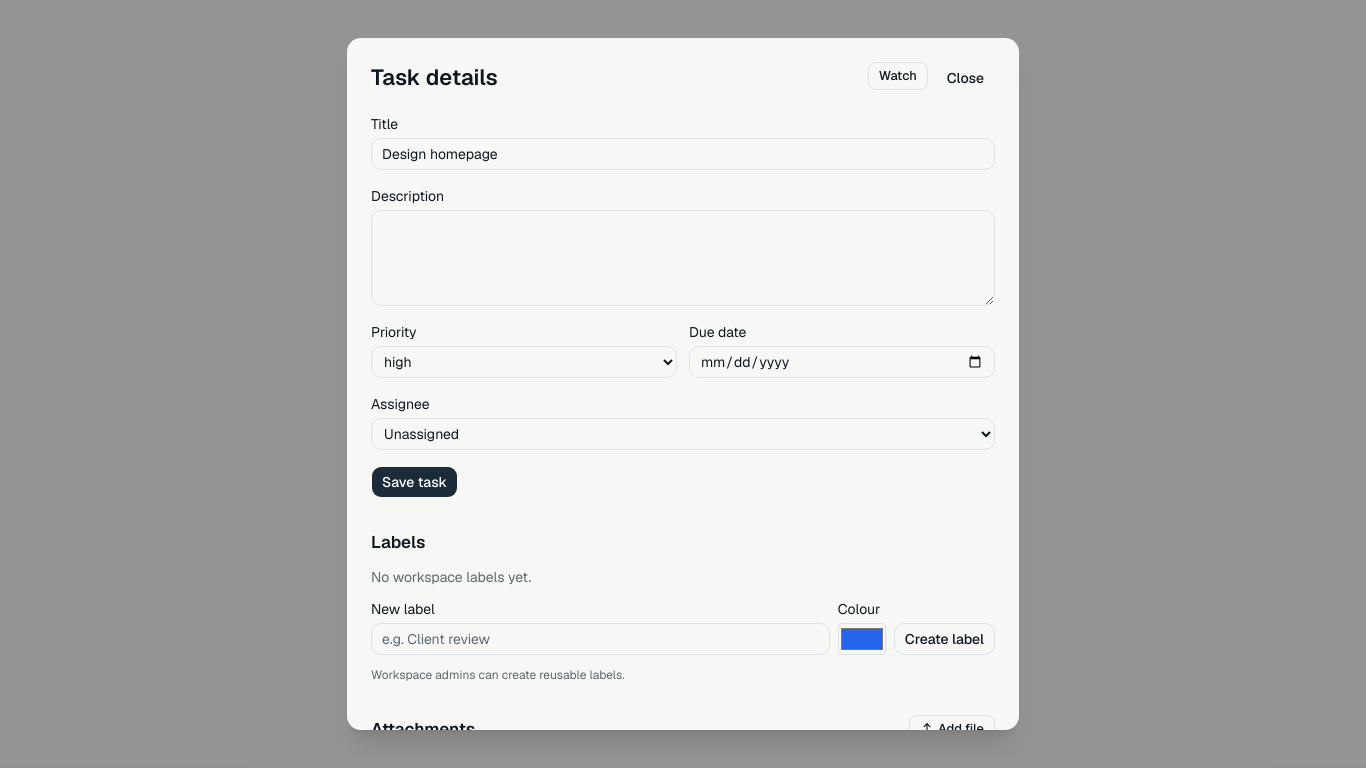
TaskDetailDialog watchers › shows Watch and switches to Watching when clicked
Click the button "Watch" at (898, 76), box x1=868 y1=62 x2=928 y2=90
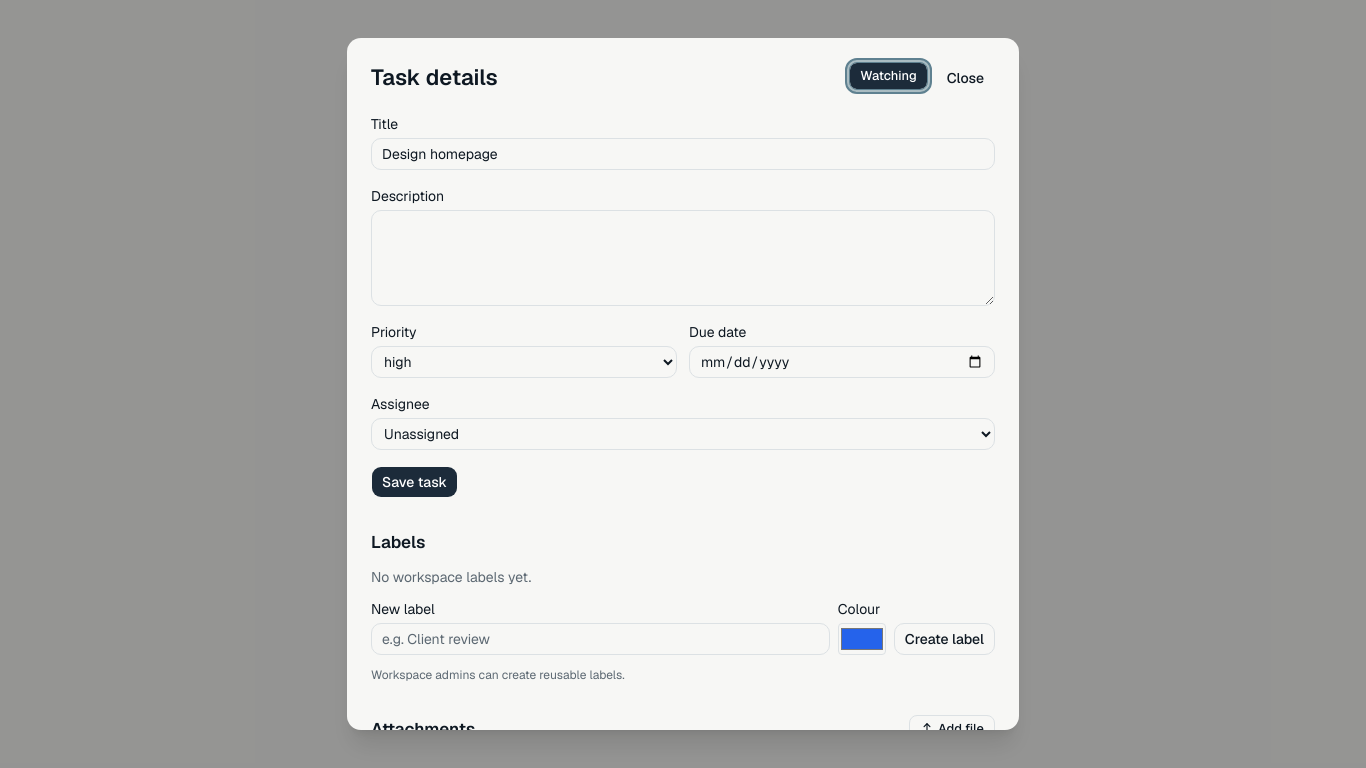
Result: the button "Watching" is shown at x1=849 y1=62 x2=928 y2=90
